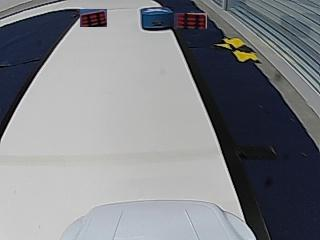prop: (141, 7, 173, 30)
